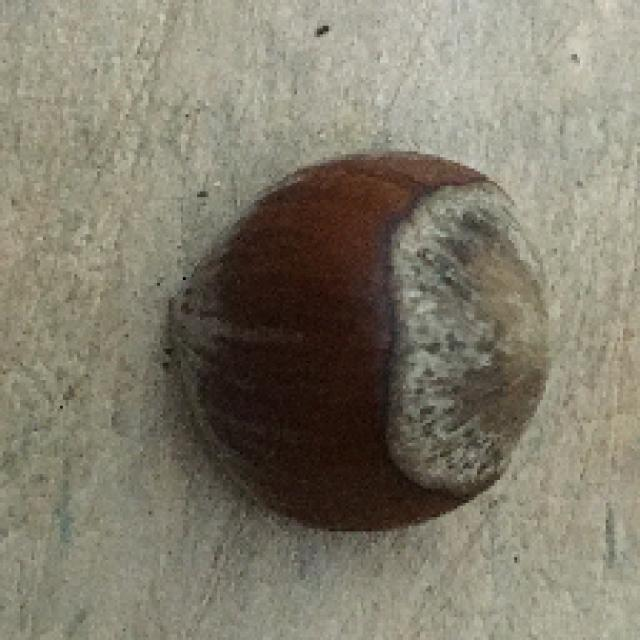qualityHazelnut: (152, 135, 564, 526)
